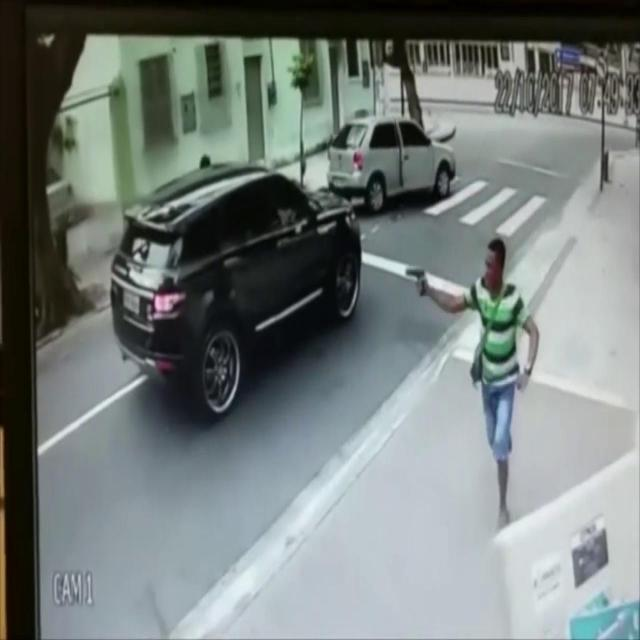weapon: (394, 258, 438, 302)
